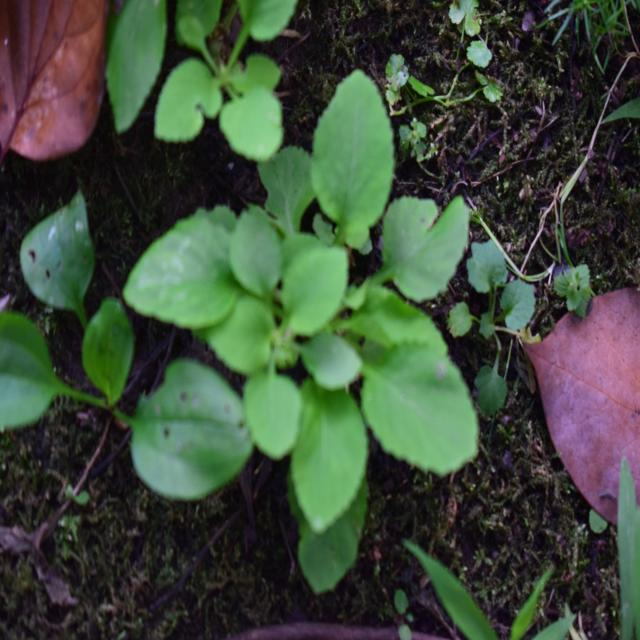Viola: (210, 91, 509, 503)
